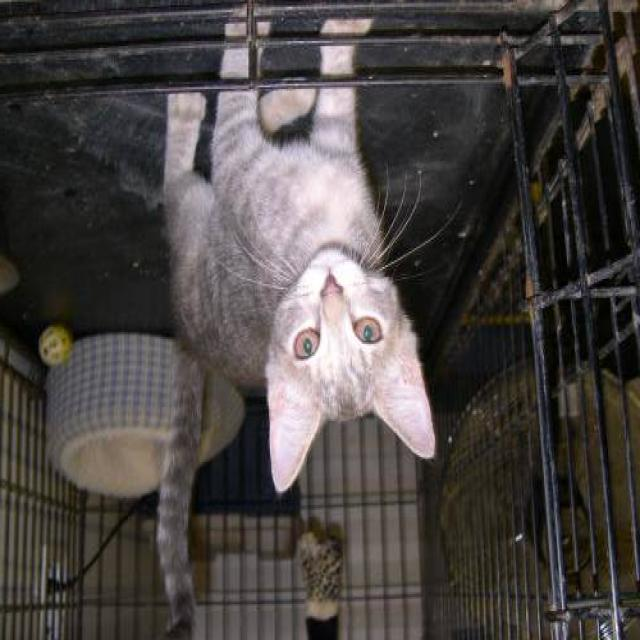Kucing: (105, 23, 489, 504)
